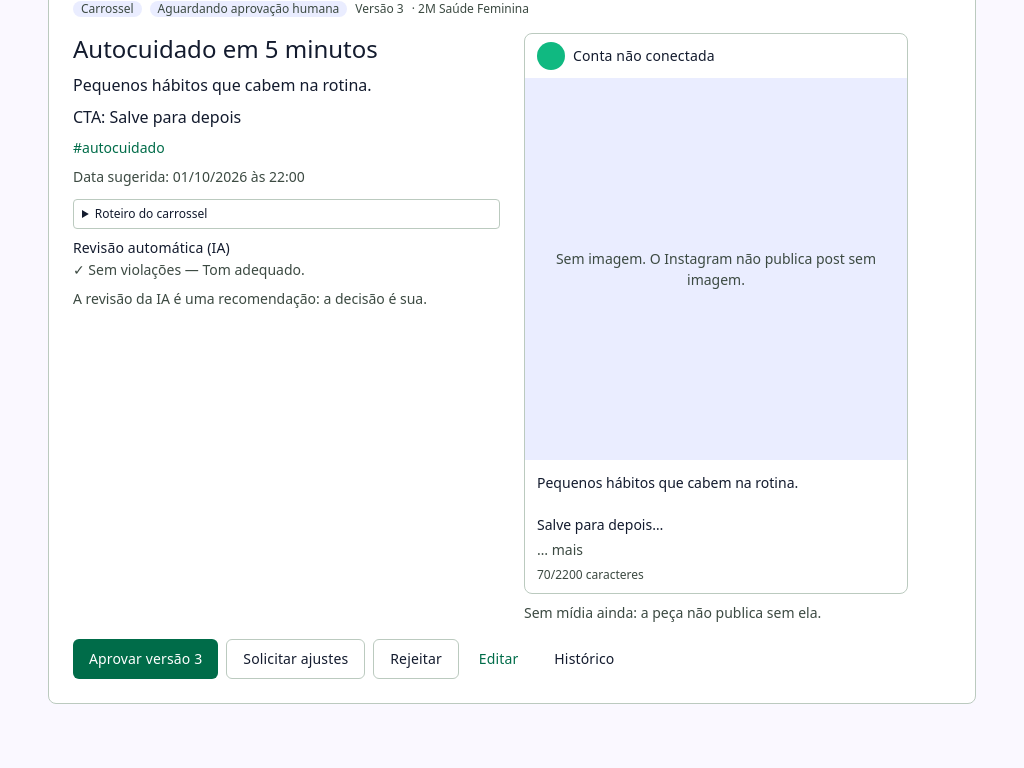
Test: versão desatualizada: o servidor recusa (409) e a tela avisa e recarrega a versão atual
The width and height of the screenshot is (1024, 768).
(page scrolled)
Click the button "Aprovar versão 3".
click(146, 659)  # box left=73, top=639, right=218, bottom=679
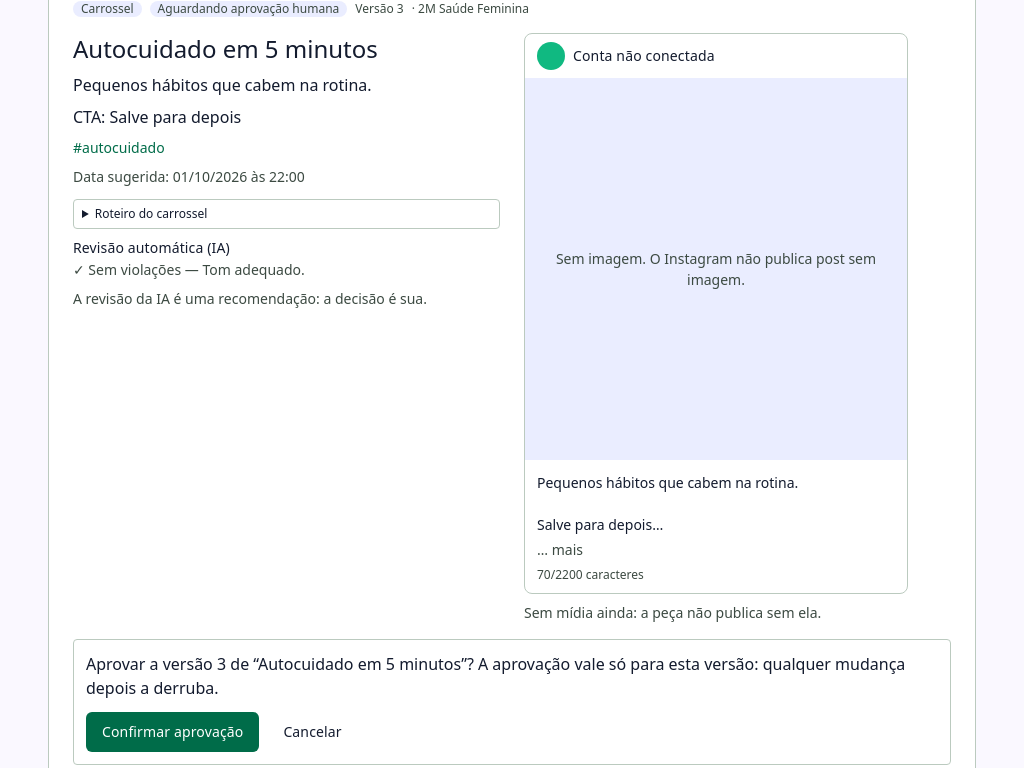
Click the button "Confirmar aprovação".
click(173, 732)  # box left=86, top=712, right=259, bottom=752
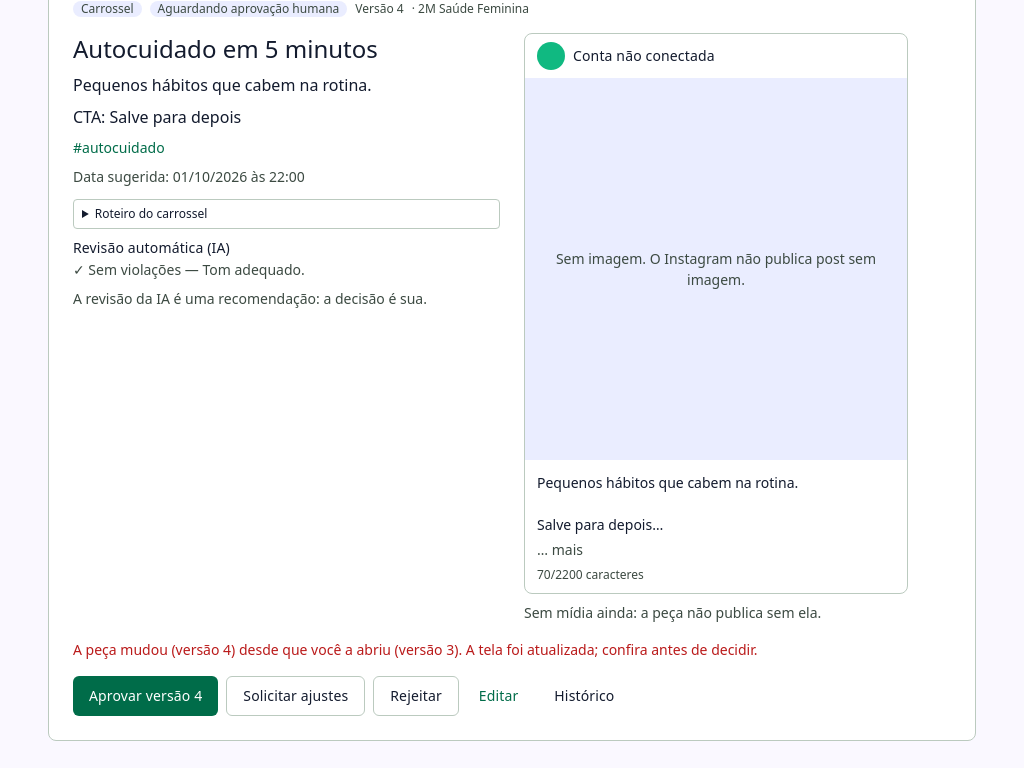
Check: the button "Aprovar versão 4" is shown, box left=73, top=676, right=218, bottom=716
